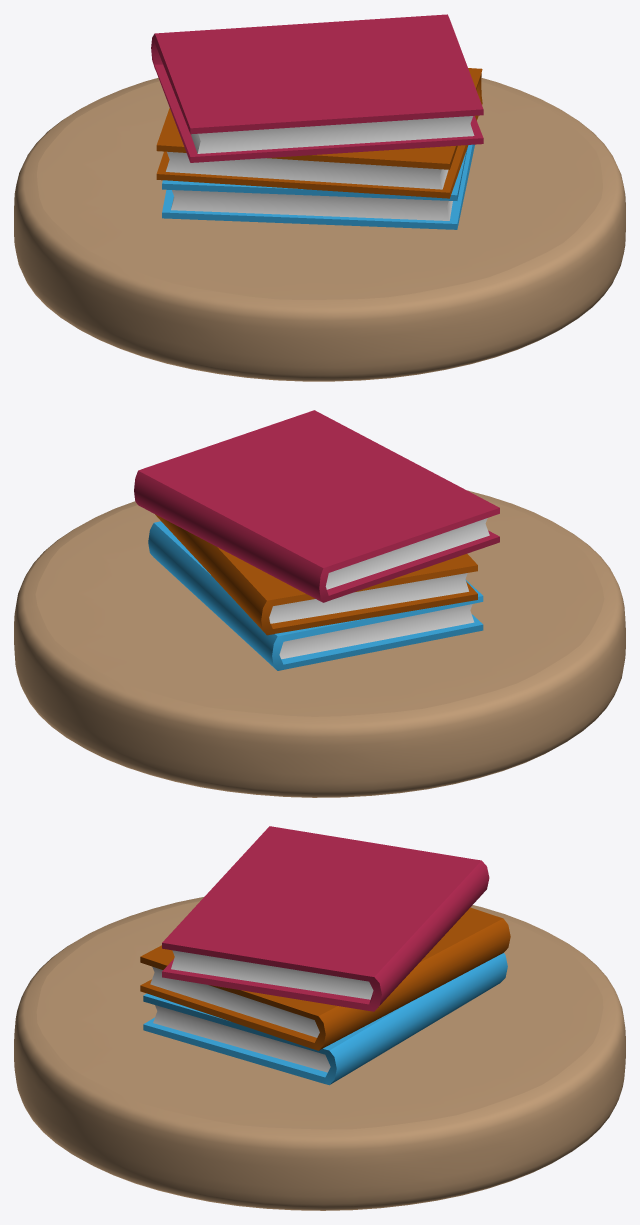
Rendered from book.gltf.
3 views of the same model, one above another, from view 1: azimuth 30°, elevation 25°; view 2: azimuth 150°, elevation 25°; view 3: azimuth 270°, elevation 25° (orthographic).
Parts seen in each view (by area): view 1: Cylinder, Cube.010, Cube.009, Cube.008; view 2: Cylinder, Cube.010, Cube.008, Cube.009; view 3: Cylinder, Cube.010, Cube.009, Cube.008.
Part boxes in pixels (x1,y1,x2,y2): Cylinder: (14,77,625,381); Cube.010: (151,14,483,162); Cube.009: (156,68,482,198); Cube.008: (162,144,474,229); Cylinder: (14,490,625,797); Cube.010: (134,410,499,602); Cube.008: (148,521,483,670); Cube.009: (155,514,477,635); Cylinder: (14,897,625,1210); Cube.010: (162,826,489,1011); Cube.009: (140,907,510,1050); Cube.008: (143,953,507,1085).
Size of the model in its own units: 0.8628 by 0.291 by 0.8628.
